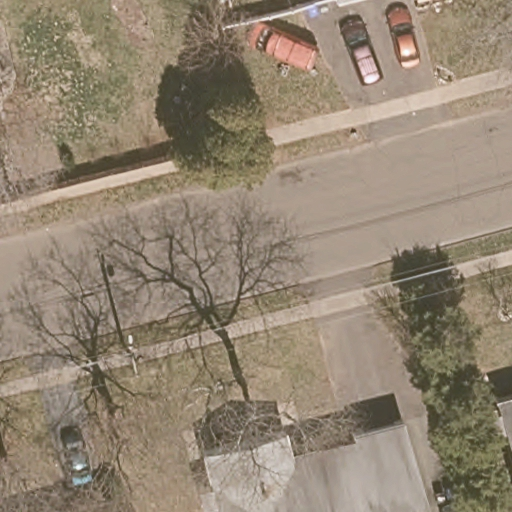DT: (126, 334, 140, 376)
